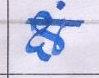anusvara: (58, 1, 65, 9)
